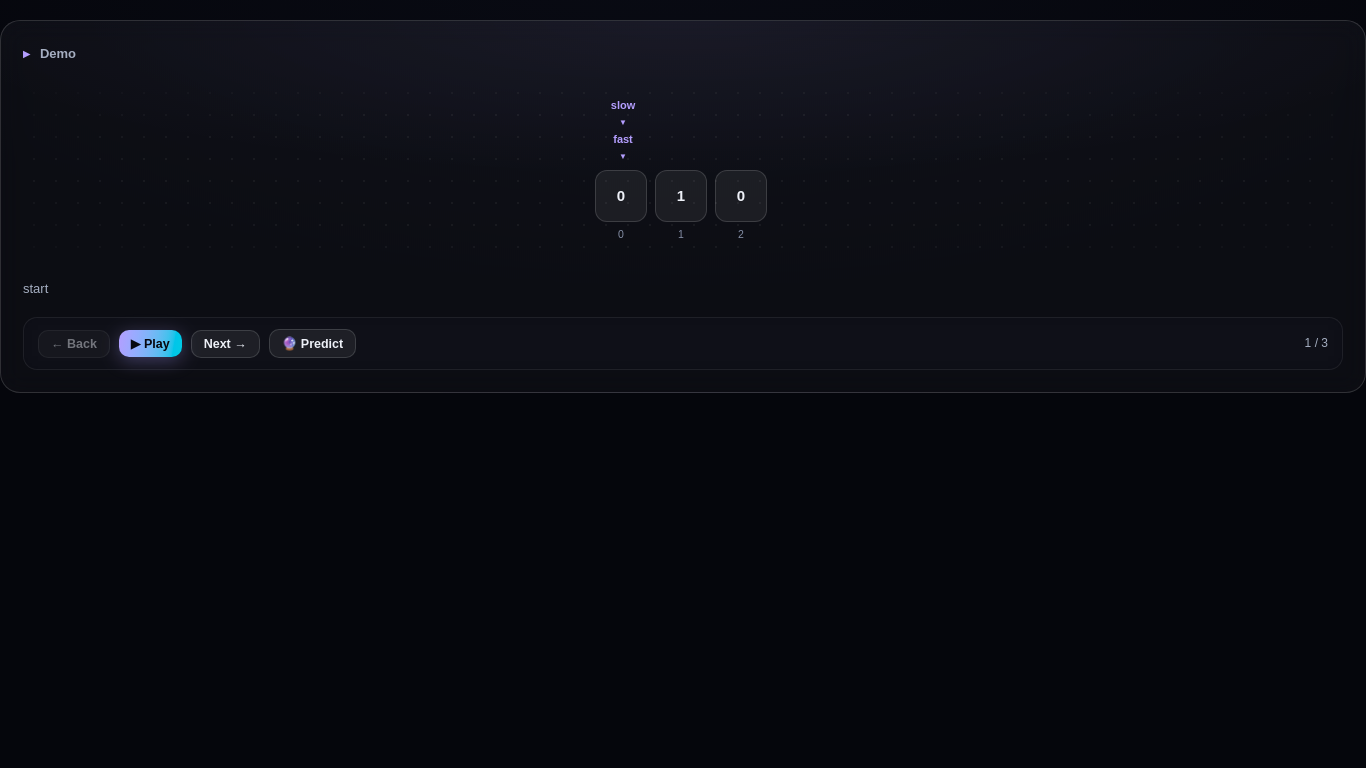
Test: predict mode is opt-in › intercepts Next once enabled, holding the frame until the answer
The image size is (1366, 768).
What coordinates should you click on to do the following:
click the button "🔮 Predict"
I would click on:
 (313, 344)
Its box is [269,329,356,358].
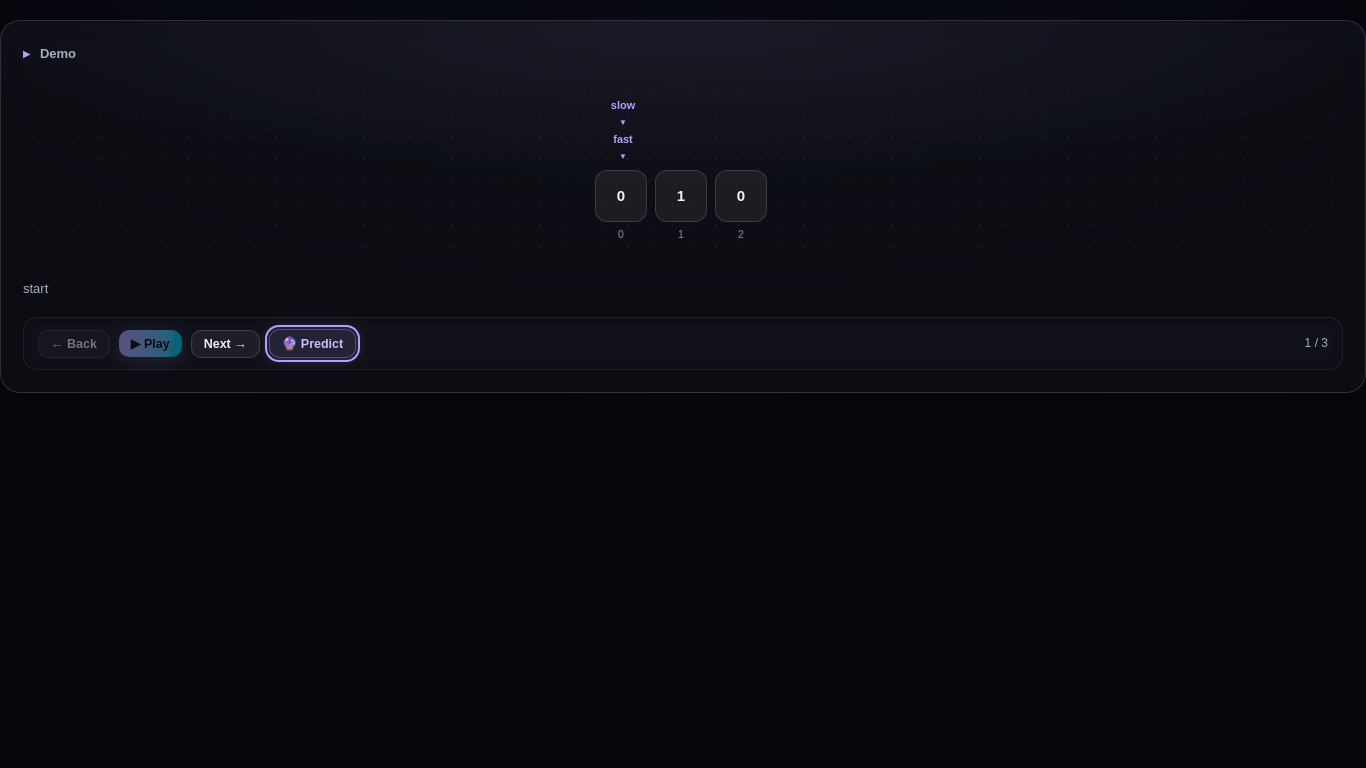
What coordinates should you click on to do the following:
click the button "Next →"
I would click on:
 (225, 344)
Its box is [191,330,260,358].
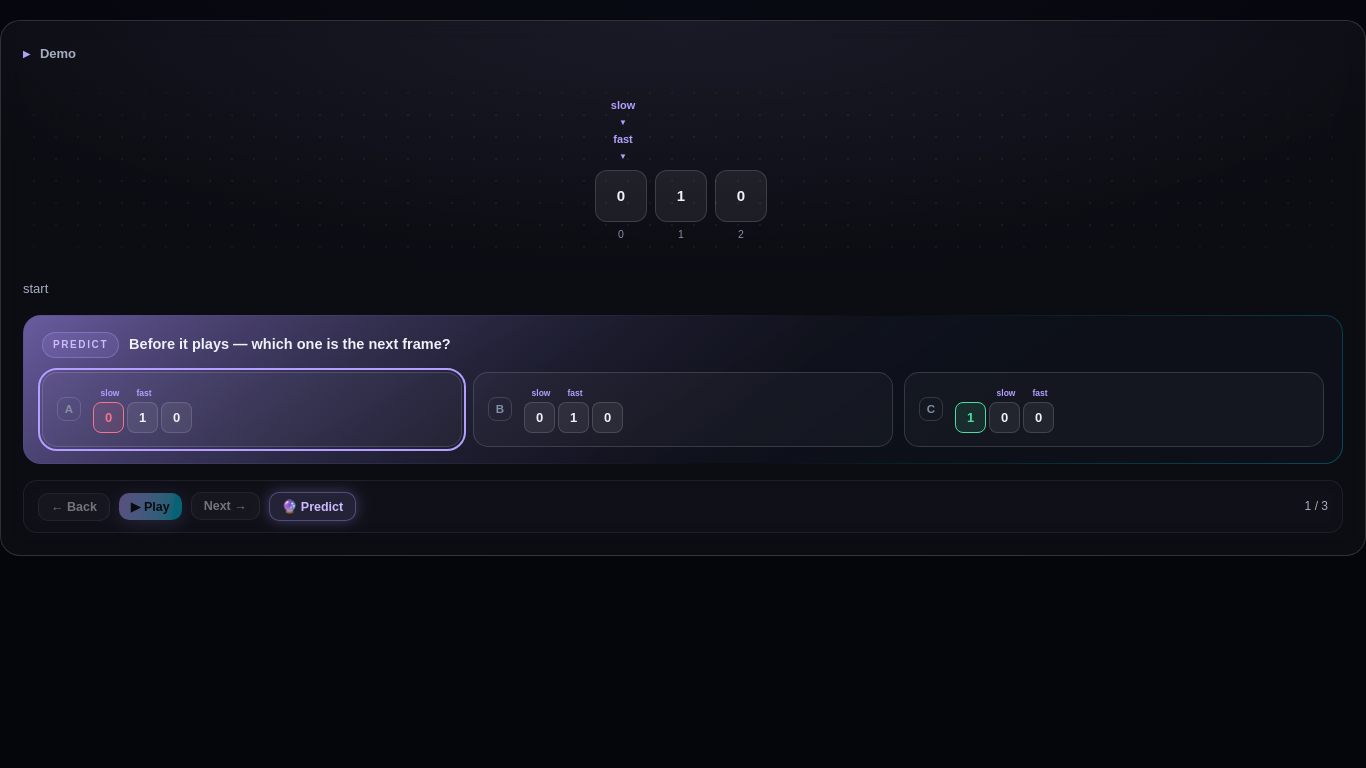
Check: the text "1 / 3" is shown, box [1305,496,1328,516]
Check: the element that starts with "PREDICT" is shown, box [23,315,1343,464]
Check: the button "Next →" is disabled, box [191,492,260,520]
